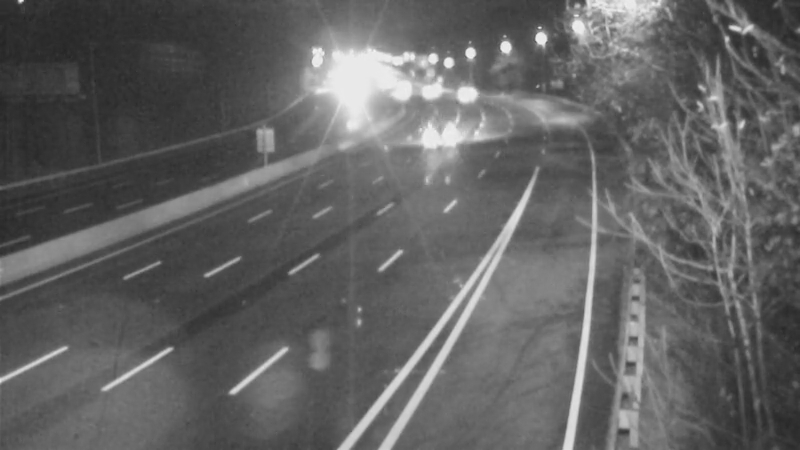vehicle: (439, 67, 489, 117), (414, 112, 464, 162)
